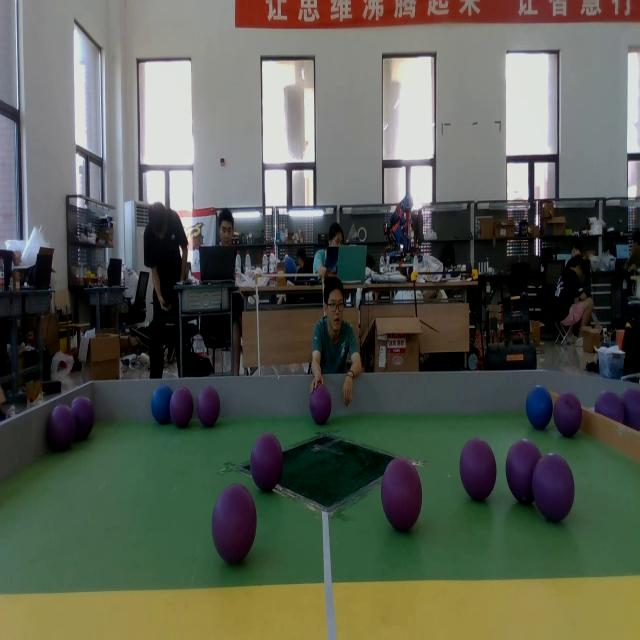blue: (524, 386, 553, 430), (149, 384, 174, 426)
invalid: (213, 473, 257, 570), (381, 456, 424, 533), (534, 453, 573, 526), (460, 436, 500, 506), (505, 436, 541, 507), (250, 432, 284, 493), (594, 388, 626, 441), (47, 402, 73, 453), (71, 394, 97, 444), (555, 394, 583, 438), (196, 384, 221, 425), (170, 386, 192, 429), (309, 388, 332, 424), (620, 388, 640, 426)
